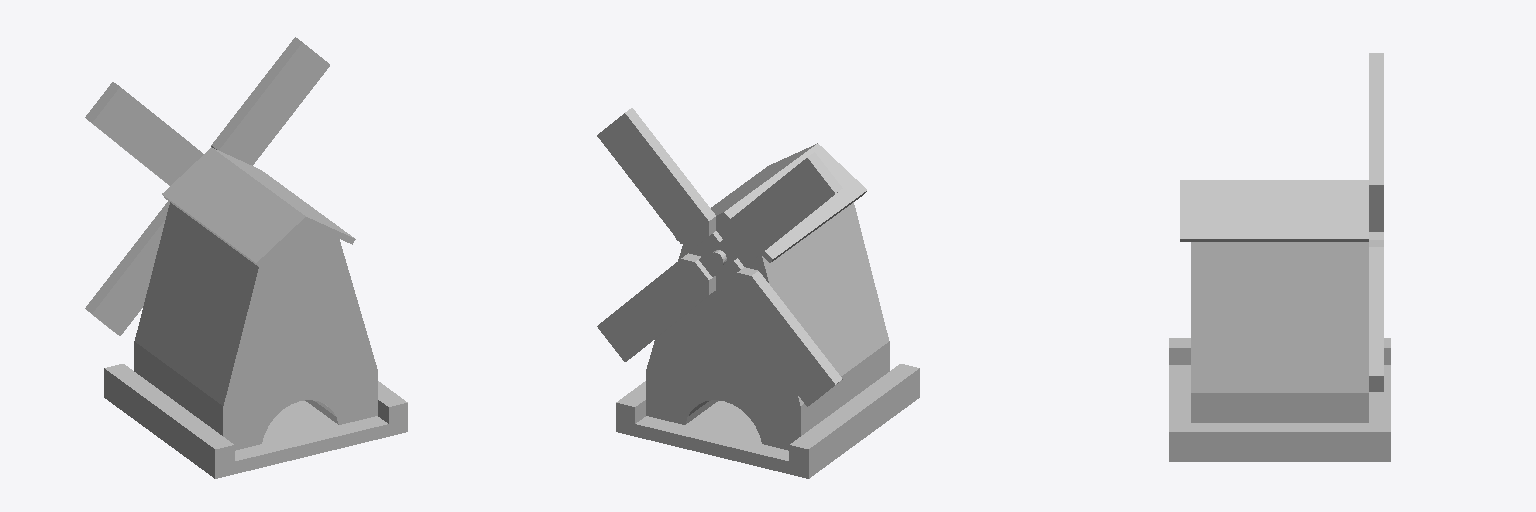
The model's file is windmill.obj.
3 views of the same model, side by side, from view 1: azimuth 30°, elevation 25°; view 2: azimuth 150°, elevation 25°; view 3: azimuth 270°, elevation 25° (orthographic).
Parts seen in each view (by area): view 1: windmill, blades; view 2: windmill, blades; view 3: windmill, blades.
Boxes of the visible parts, x1=… form: windmill: x1=104, y1=147, x2=407, y2=478; blades: x1=85, y1=37, x2=329, y2=335; windmill: x1=616, y1=143, x2=919, y2=478; blades: x1=597, y1=108, x2=842, y2=406; windmill: x1=1169, y1=180, x2=1390, y2=461; blades: x1=1369, y1=53, x2=1383, y2=391.
Bounding box in the file's own units: 1.24 × 1.58 × 0.9999.